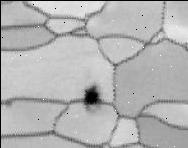good_void: (81, 84, 100, 105)
